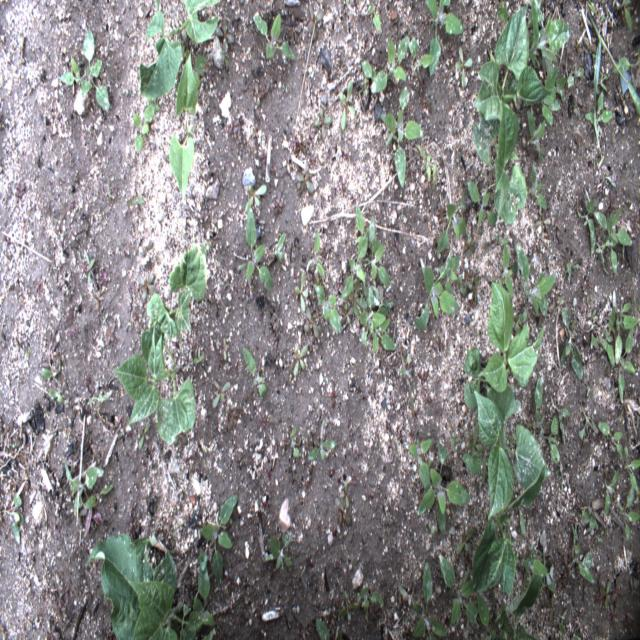crop: (85, 534, 214, 640), (462, 385, 552, 519), (464, 281, 546, 409), (113, 318, 194, 445), (472, 464, 546, 596), (472, 3, 551, 124), (139, 0, 220, 98), (473, 98, 529, 224), (146, 244, 207, 342), (169, 48, 199, 201), (495, 572, 543, 639)
weed: (587, 14, 639, 154), (582, 292, 640, 404), (416, 443, 470, 535), (58, 27, 110, 112), (382, 83, 423, 188), (412, 252, 460, 332), (518, 1, 571, 66), (201, 495, 238, 585), (234, 206, 273, 290), (421, 0, 464, 76), (360, 274, 399, 354), (64, 462, 115, 523), (513, 245, 556, 316), (360, 33, 409, 94), (356, 206, 392, 288), (589, 206, 632, 274), (411, 560, 447, 638), (439, 554, 478, 626), (252, 10, 296, 64), (436, 186, 468, 253), (340, 228, 370, 298), (558, 307, 586, 379), (532, 68, 566, 126), (408, 36, 434, 102), (465, 178, 500, 227), (568, 527, 596, 585), (520, 374, 546, 436), (575, 187, 597, 256), (193, 560, 214, 632), (612, 486, 639, 542), (314, 281, 343, 332), (476, 592, 505, 639), (595, 578, 625, 623), (133, 101, 157, 156), (414, 140, 438, 195), (262, 531, 294, 572), (1, 490, 24, 546), (597, 419, 626, 463), (409, 436, 432, 490), (524, 111, 546, 167), (243, 347, 267, 398), (585, 93, 612, 138), (610, 54, 639, 94), (538, 529, 555, 593), (525, 164, 549, 209), (550, 392, 570, 446), (338, 75, 356, 134), (540, 416, 561, 466), (213, 14, 238, 56), (87, 387, 113, 427), (347, 275, 371, 318), (306, 231, 326, 282), (602, 464, 621, 517), (185, 50, 208, 91), (242, 182, 268, 217), (573, 497, 599, 532), (579, 397, 598, 443), (500, 241, 515, 299), (521, 546, 548, 578), (623, 444, 640, 493), (307, 436, 338, 462), (42, 342, 62, 382), (454, 46, 473, 88), (398, 583, 424, 613), (338, 589, 362, 620), (466, 421, 485, 459), (79, 248, 96, 288), (362, 584, 386, 611), (455, 522, 473, 557), (595, 168, 617, 196), (313, 107, 332, 139), (212, 377, 231, 408), (558, 248, 579, 276), (292, 341, 309, 375), (334, 494, 352, 526), (307, 5, 323, 41), (254, 78, 272, 110), (316, 617, 342, 639), (304, 305, 320, 340), (296, 268, 308, 314), (270, 232, 288, 262), (616, 1, 632, 33), (296, 165, 313, 193), (533, 212, 551, 238), (287, 14, 302, 45), (289, 426, 303, 459), (368, 3, 382, 36), (338, 302, 355, 329), (568, 64, 585, 90), (216, 336, 228, 370), (226, 405, 242, 430), (468, 271, 479, 306), (544, 595, 558, 622), (124, 190, 145, 208), (270, 190, 284, 215), (138, 421, 150, 450), (173, 427, 188, 446), (196, 548, 208, 571), (339, 480, 349, 507), (50, 385, 64, 403), (595, 73, 609, 91), (227, 116, 241, 134), (586, 306, 598, 325), (194, 344, 204, 364), (632, 214, 640, 234), (585, 384, 592, 400)
